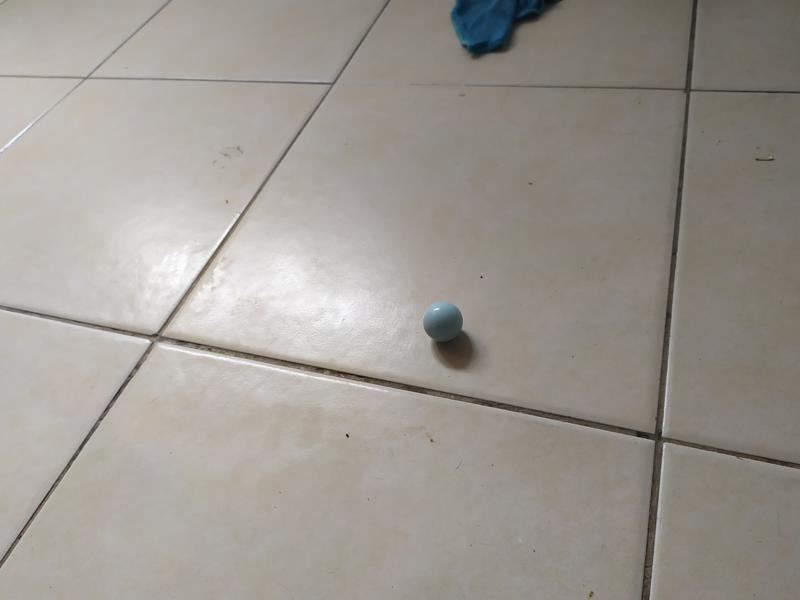Warning: (419, 299, 464, 344)
